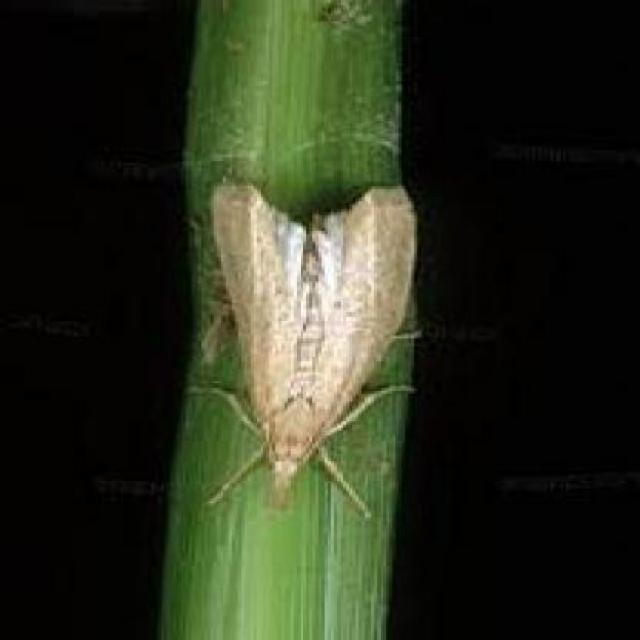stem-borer: (200, 175, 397, 516)
